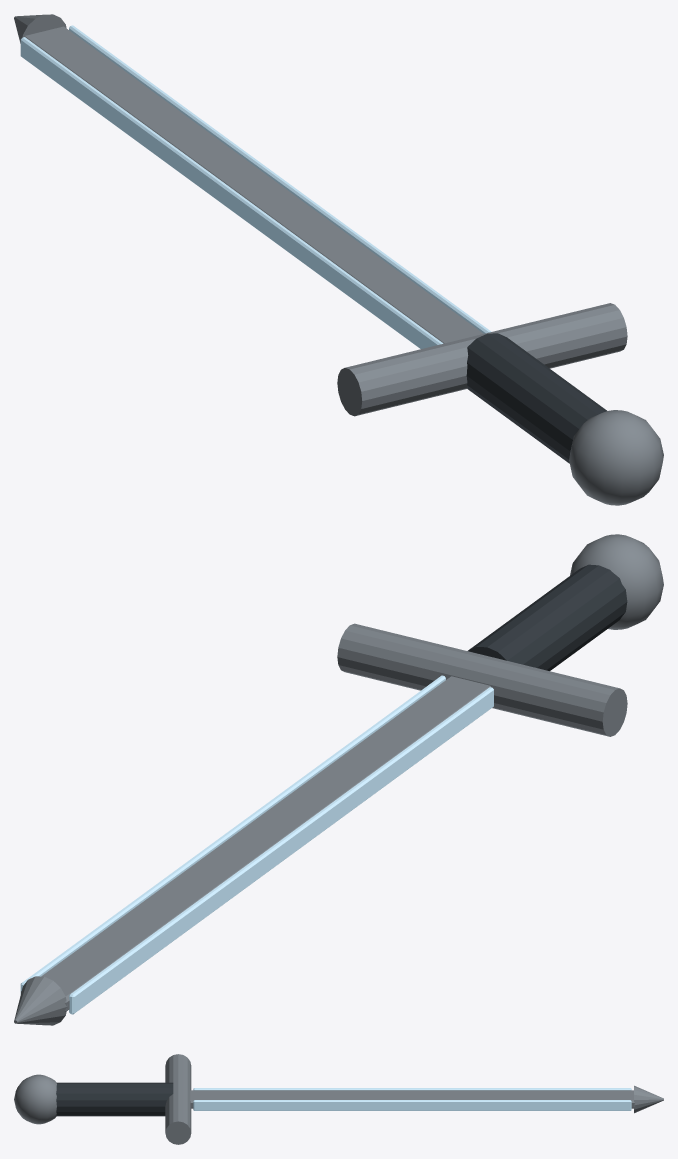
Rendered from WPN_Sword_A_FP_v01.glb.
3 renders of one model, top to bottom at view 1: azimuth 30°, elevation 25°; view 2: azimuth 150°, elevation 25°; view 3: azimuth 270°, elevation 25°, orthographic. The views are drawn at different scales.
Parts seen in each view (by area): view 1: MESH_Hilt, MESH_Blade, MESH_BladeEdge; view 2: MESH_Hilt, MESH_Blade, MESH_BladeEdge; view 3: MESH_Hilt, MESH_BladeEdge, MESH_Blade.
Part boxes in pixels (x1,y1,x2,y2): MESH_Hilt: (337,303,663,505); MESH_Blade: (14,14,483,343); MESH_BladeEdge: (20,25,491,348); MESH_Hilt: (337,534,663,736); MESH_Blade: (14,676,490,1025); MESH_BladeEdge: (20,675,493,1014); MESH_Hilt: (14,1054,191,1144); MESH_BladeEdge: (193,1088,631,1110); MESH_Blade: (190,1085,663,1113).
Bounding box in the file's own units: 0.32 × 0.1 × 1.31.
